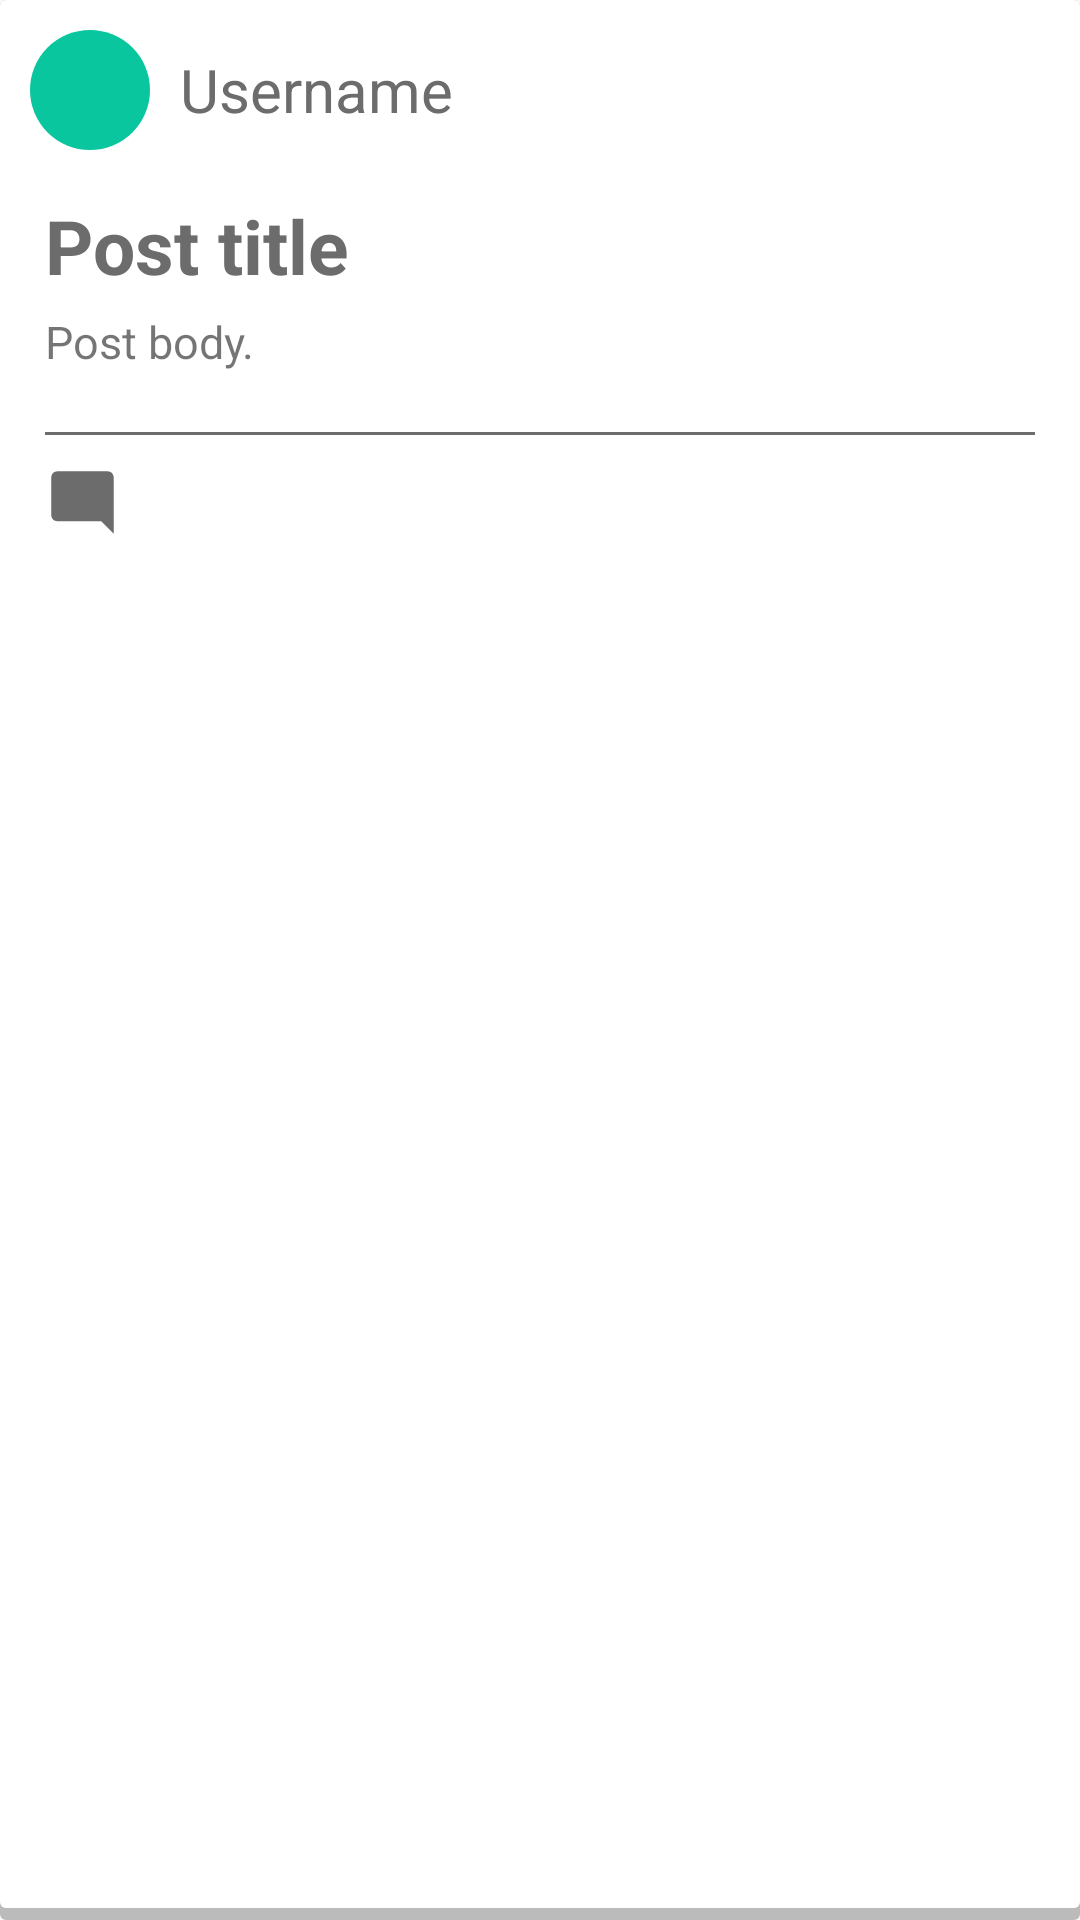

Locate icon controls on the screen. Image size 1080 x 1920, boxes as (x1, y1, x2, y2).
comment: (51, 471, 114, 534)
